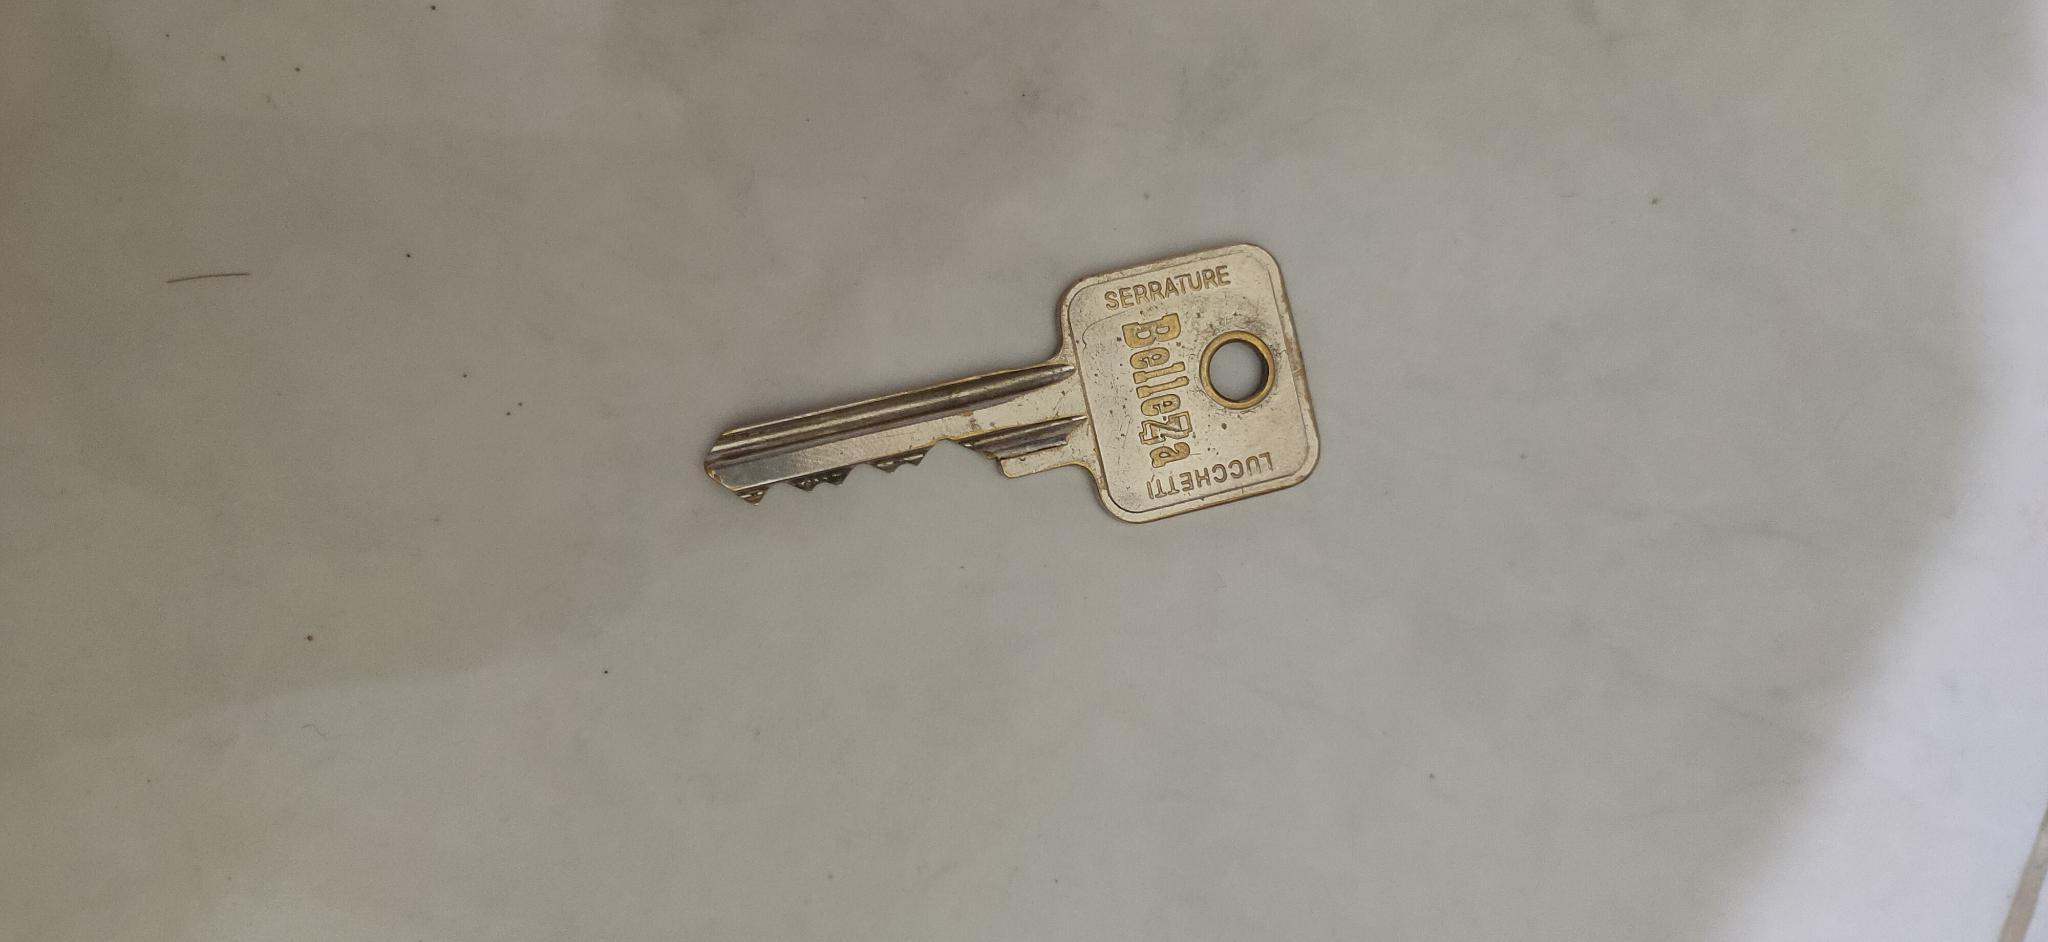keys: (690, 223, 1344, 545)
